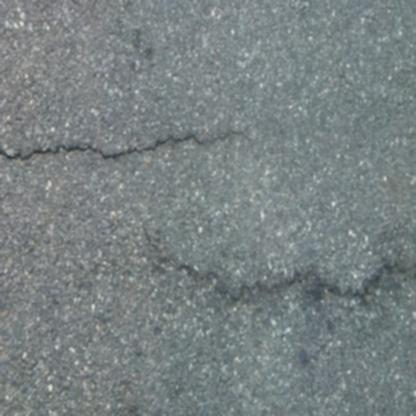Cracks: (143, 224, 415, 314), (0, 124, 246, 174)
